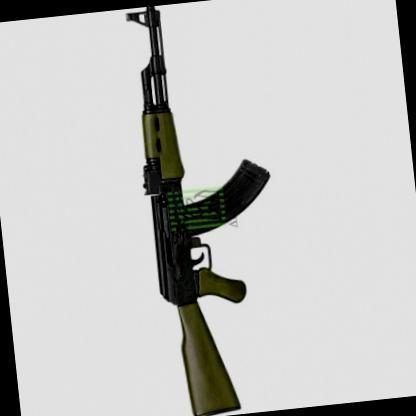rifle: (91, 0, 301, 416)
